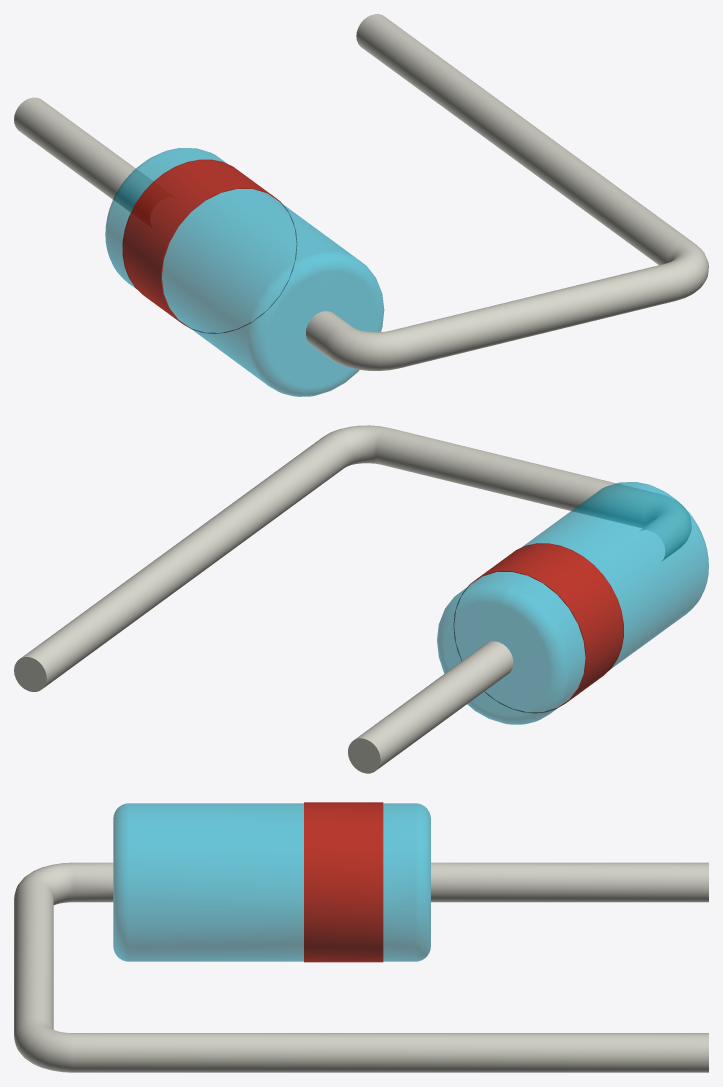
Rendered from d-do-35-sod27-p5.08-v-anodeup.glb.
The picture shows the model from 3 angles, top to bottom: view 1: azimuth 30°, elevation 25°; view 2: azimuth 150°, elevation 25°; view 3: azimuth 270°, elevation 25°; orthographic projection. The views are drawn at different scales.
Parts seen in each view (by area): view 1: PIN-01, GLASS-13, LED-RED; view 2: PIN-01, GLASS-13, LED-RED; view 3: PIN-01, GLASS-13, LED-RED.
Part boxes in pixels (x1,y1,x2,y2): PIN-01: (14, 14, 708, 370); GLASS-13: (105, 148, 384, 396); LED-RED: (122, 159, 296, 333); PIN-01: (14, 425, 691, 773); GLASS-13: (437, 482, 708, 724); LED-RED: (453, 543, 623, 712); PIN-01: (14, 862, 708, 1072); GLASS-13: (113, 803, 430, 961); LED-RED: (304, 802, 383, 962).
Bounding box in the file's own units: 6.34 × 2.02 × 8.75.
